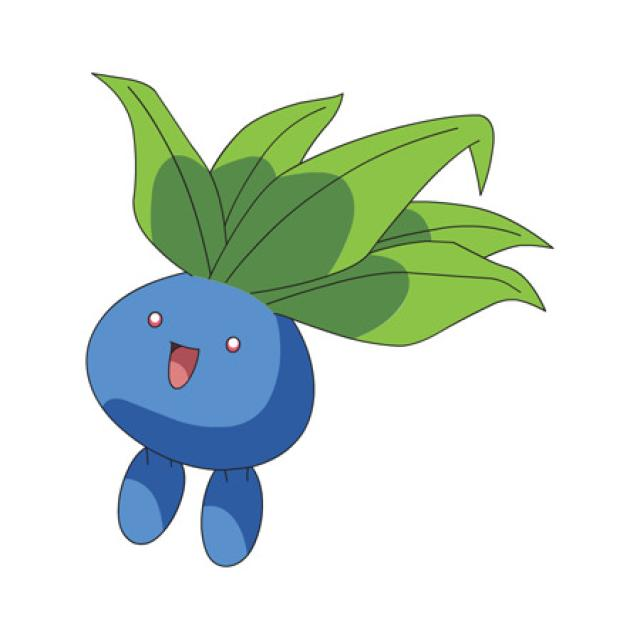Oddish: (87, 127, 336, 560)
